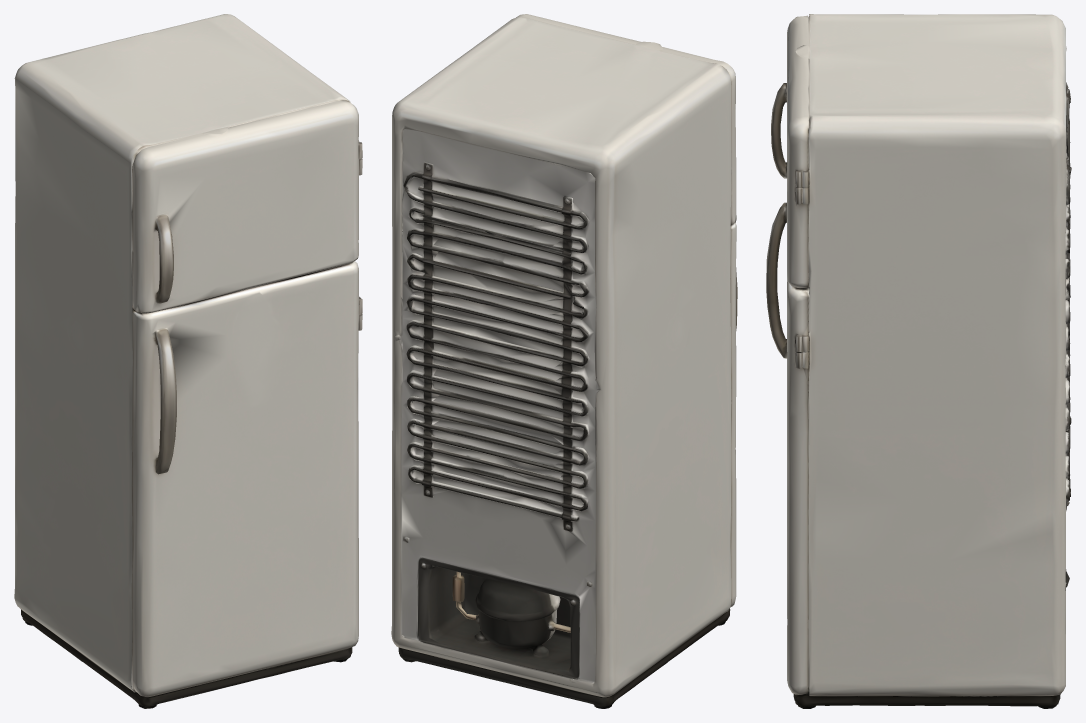
File: retro_refrigerator_3d_model.fbx
3 views of the same model, side by side, from view 1: azimuth 30°, elevation 25°; view 2: azimuth 150°, elevation 25°; view 3: azimuth 270°, elevation 25° (orthographic). The views are drawn at different scales.
Parts seen in each view (by area): view 1: tripo_node_b34b5d1a-fc50-4900-9fa9-3d5ece8c3575; view 2: tripo_node_b34b5d1a-fc50-4900-9fa9-3d5ece8c3575; view 3: tripo_node_b34b5d1a-fc50-4900-9fa9-3d5ece8c3575.
Boxes of the visible parts, <box> form: tripo_node_b34b5d1a-fc50-4900-9fa9-3d5ece8c3575: <box>14,14,362,708</box>; tripo_node_b34b5d1a-fc50-4900-9fa9-3d5ece8c3575: <box>391,14,737,708</box>; tripo_node_b34b5d1a-fc50-4900-9fa9-3d5ece8c3575: <box>766,14,1071,708</box>.
Bounding box in the file's own units: 0.415 × 0.9786 × 0.459.
